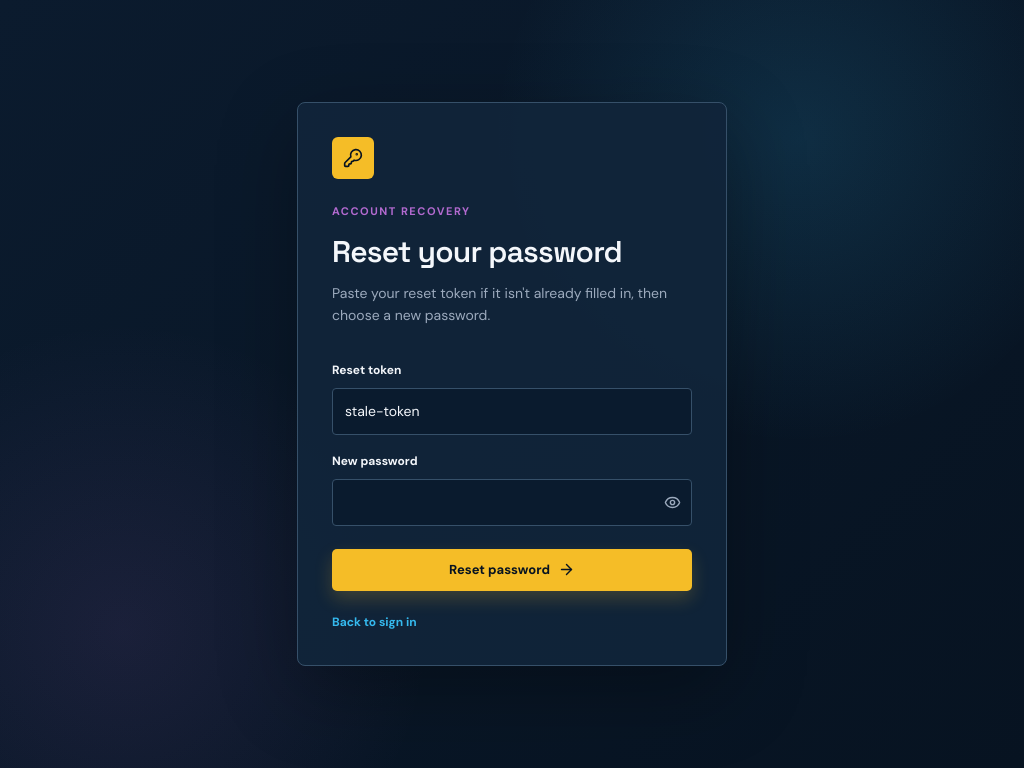
Test: SignIn › shows an error and stays on the reset screen when the token is invalid or expired
This screenshot has width=1024, height=768.
Type "newpassword123" into the password field labelled "New password" at (512, 502), box top-left (332, 479), bottom-right (692, 526)
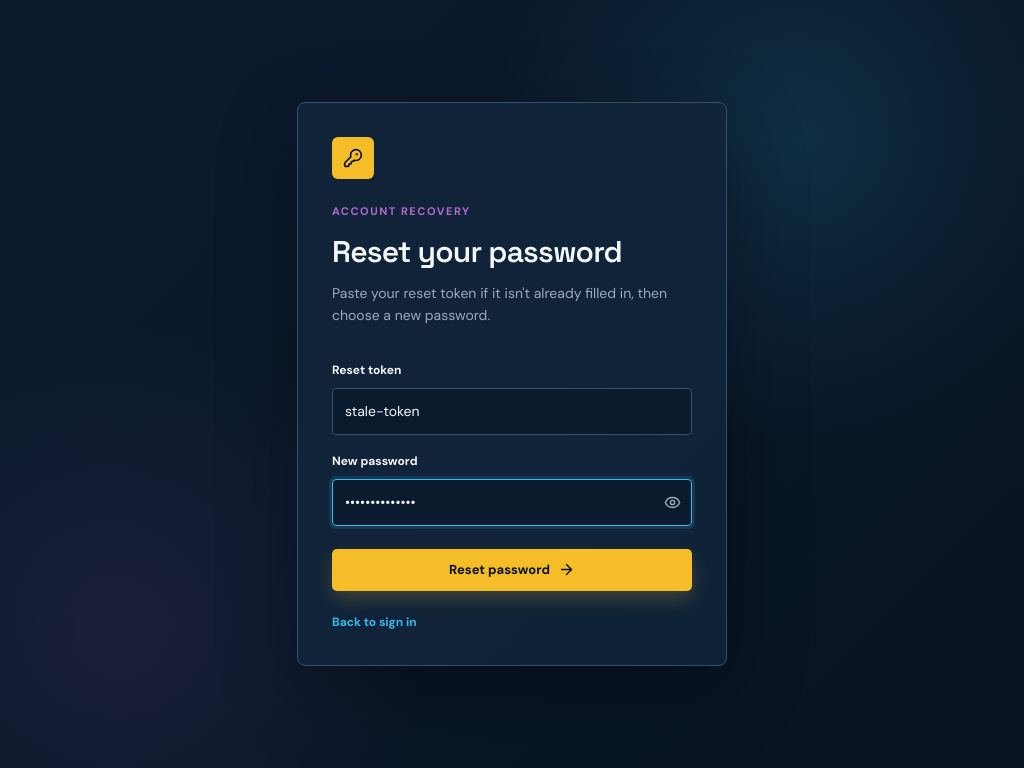
Click the button "Reset password" at (512, 570), box top-left (332, 549), bottom-right (692, 591)
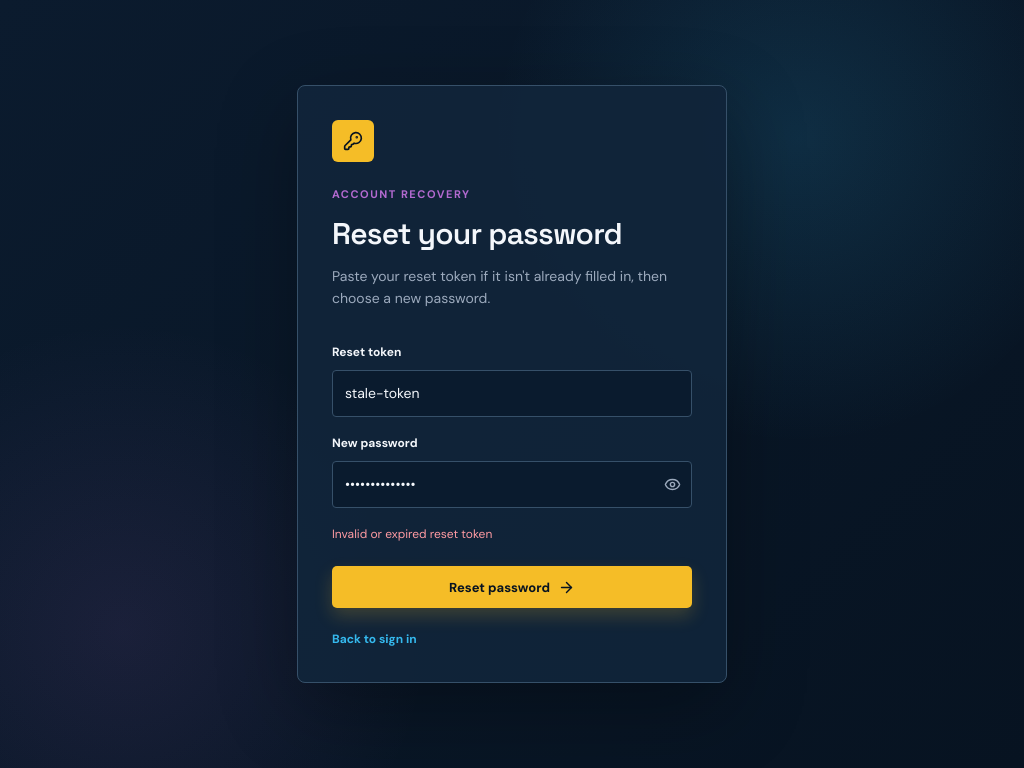
Expected: the heading "Reset your password" is shown, top-left (332, 214), bottom-right (622, 253)
Now the message reads "Invalid or expired reset token", box top-left (332, 526), bottom-right (492, 542)
